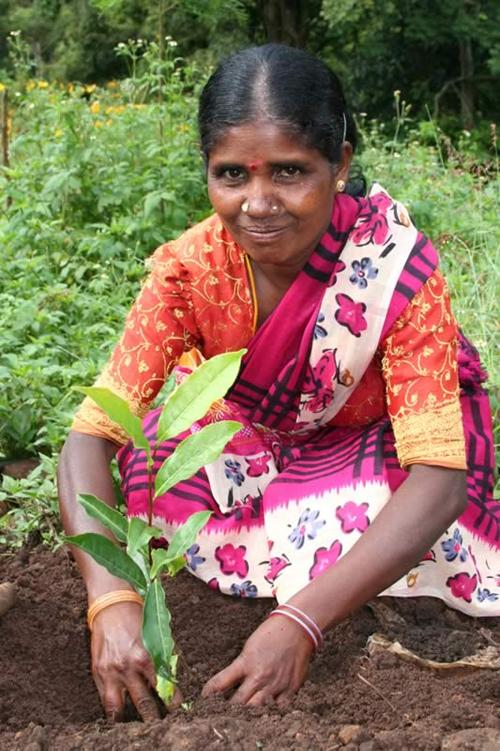person: (53, 41, 500, 721)
